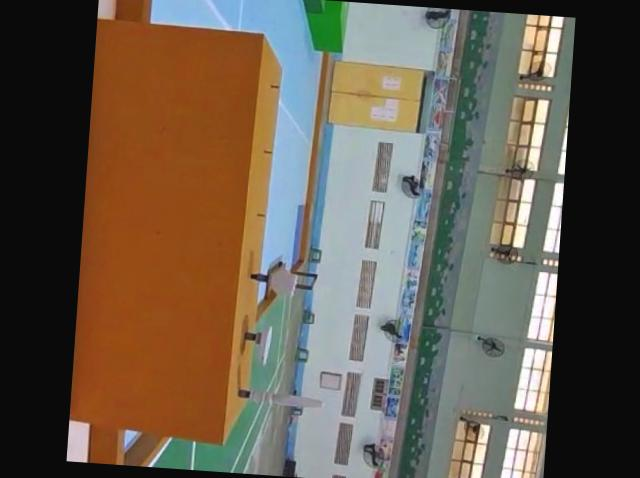Fist: (247, 262, 298, 299)
Hand: (240, 324, 275, 366)
Sph: (235, 381, 335, 410)
